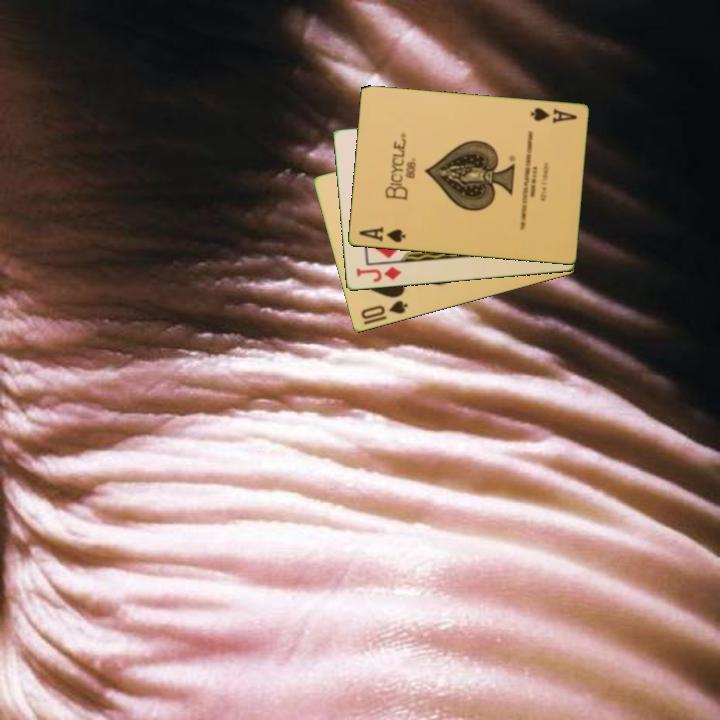10s: (357, 297, 411, 323)
As: (355, 224, 408, 246), (526, 105, 579, 127)
Jd: (352, 263, 404, 285)
